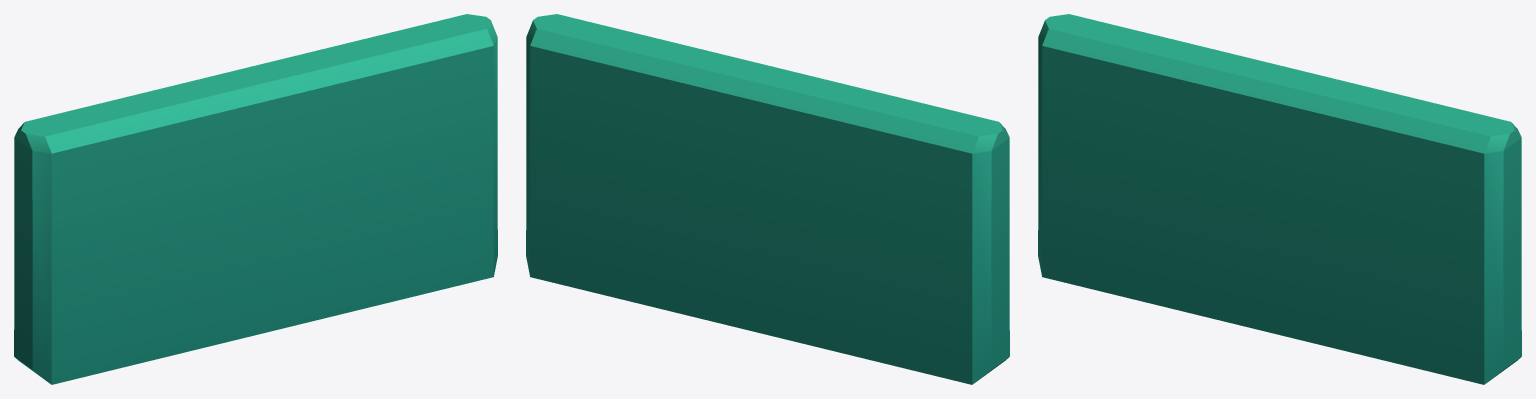
File: wall_low.gltf
3 views of the same model, side by side, from view 1: azimuth 30°, elevation 25°; view 2: azimuth 150°, elevation 25°; view 3: azimuth 330°, elevation 25° (orthographic).
Parts seen in each view (by area): view 1: wall_low; view 2: wall_low; view 3: wall_low.
Part boxes in pixels (box(x1,y1,x2,y2)): wall_low: box(14, 14, 497, 384); wall_low: box(526, 14, 1009, 384); wall_low: box(1038, 14, 1521, 384).
Size of the model in its own units: 4 by 2 by 0.5.
1 material, 1 textured.
